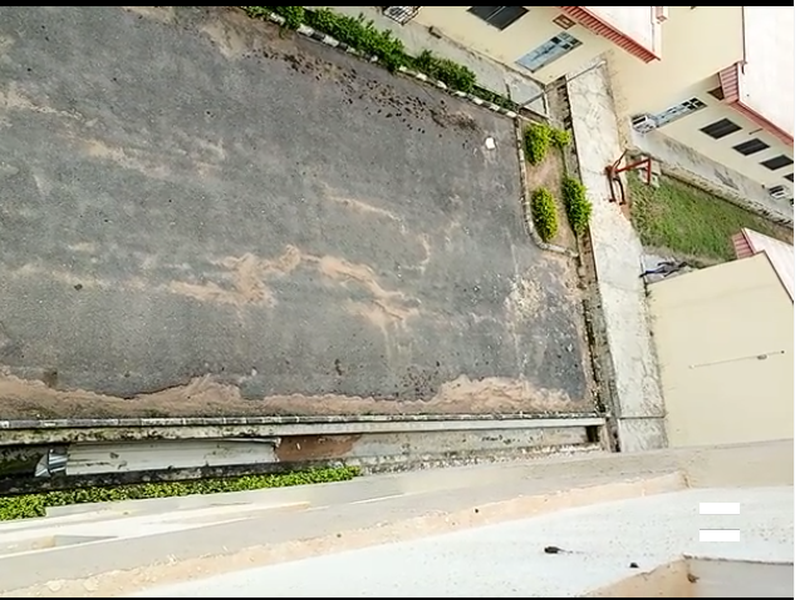five: (449, 64, 552, 234)
four: (303, 10, 414, 231)
